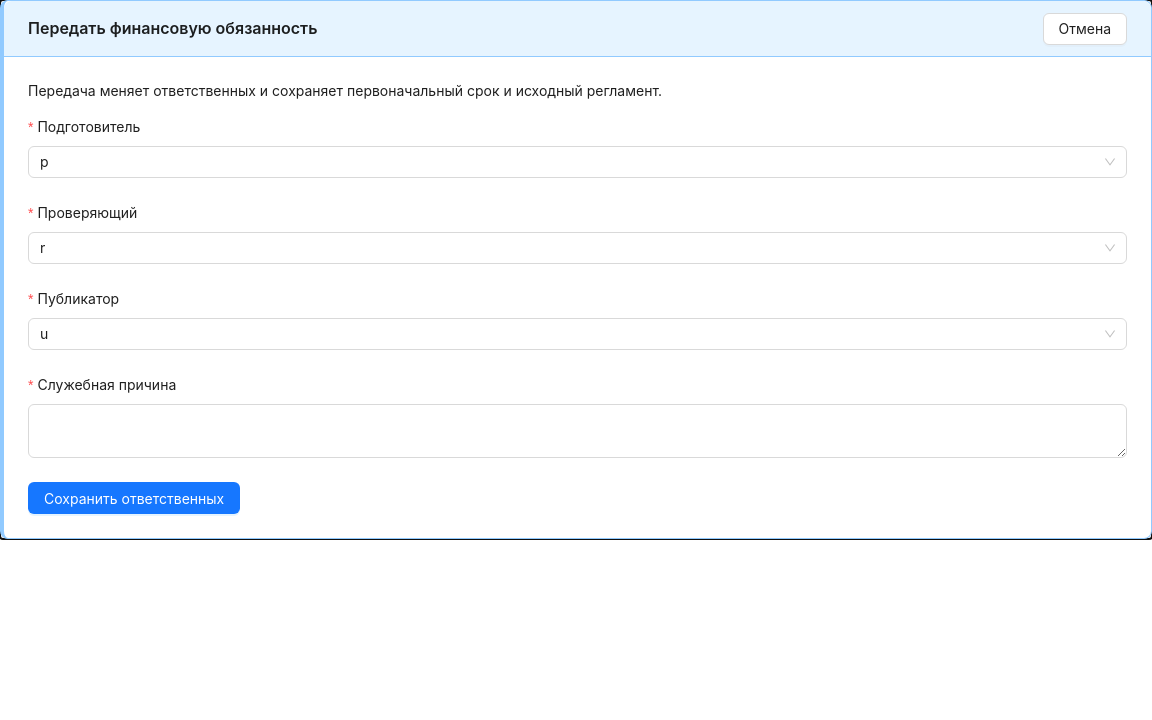
Test: передача отправляет только ответственных, исходную версию и причину; ошибка сохраняет ввод
Expected: the text "p" is shown, [40,153,49,170]
Type "Передача обязанностей" into the text box labelled "Служебная причина". click: (578, 431)
box: [28,404,1127,458]
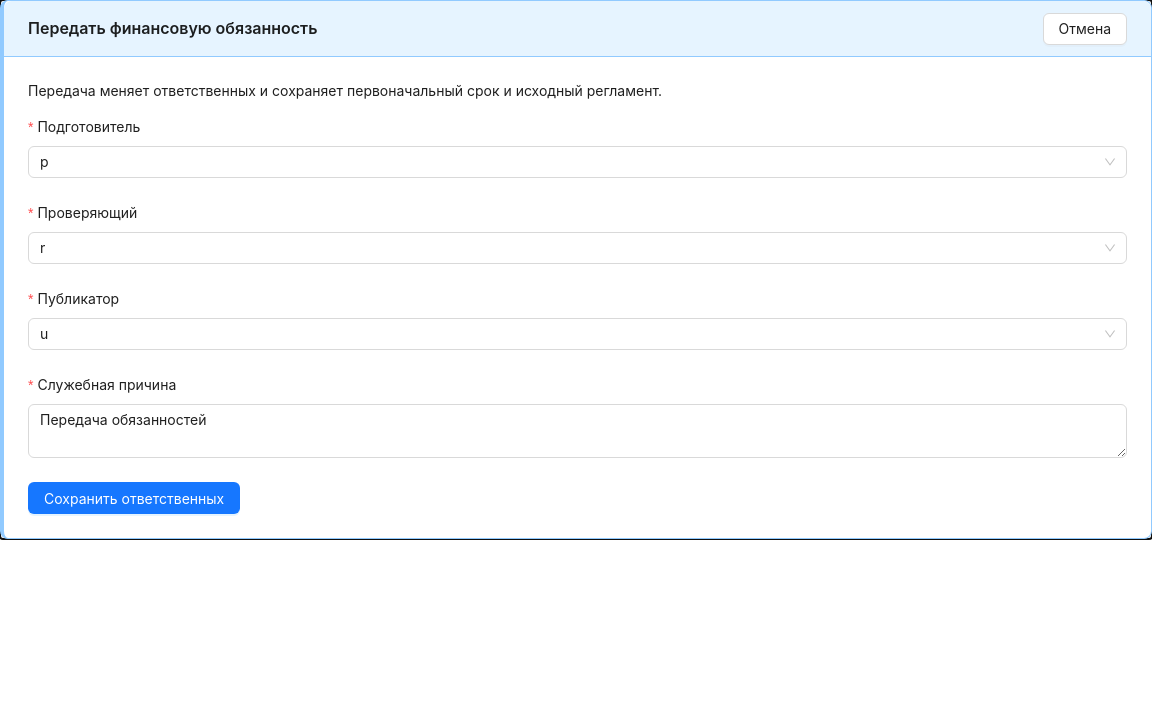
Click the button "Сохранить ответственных". click: (134, 498)
box: [28,482,240,514]
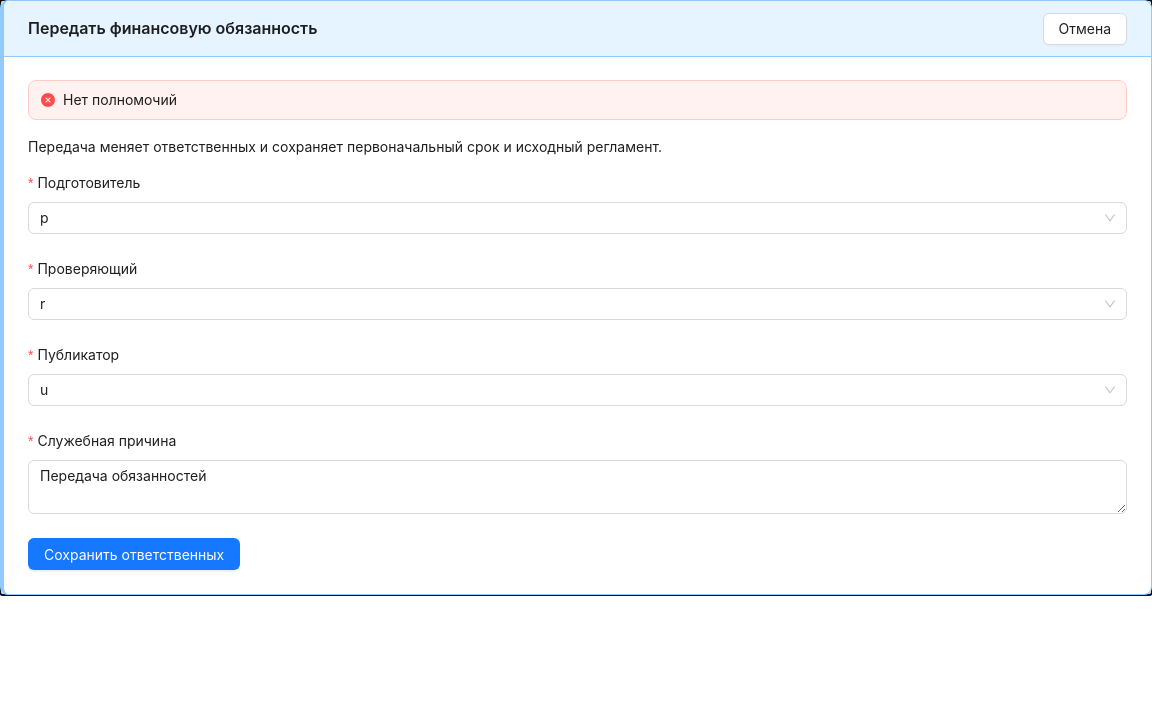
Expected: the text "Нет полномочий" is shown, [63,91,177,108]
